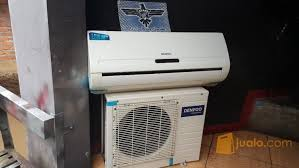ac: (85, 21, 237, 92)
